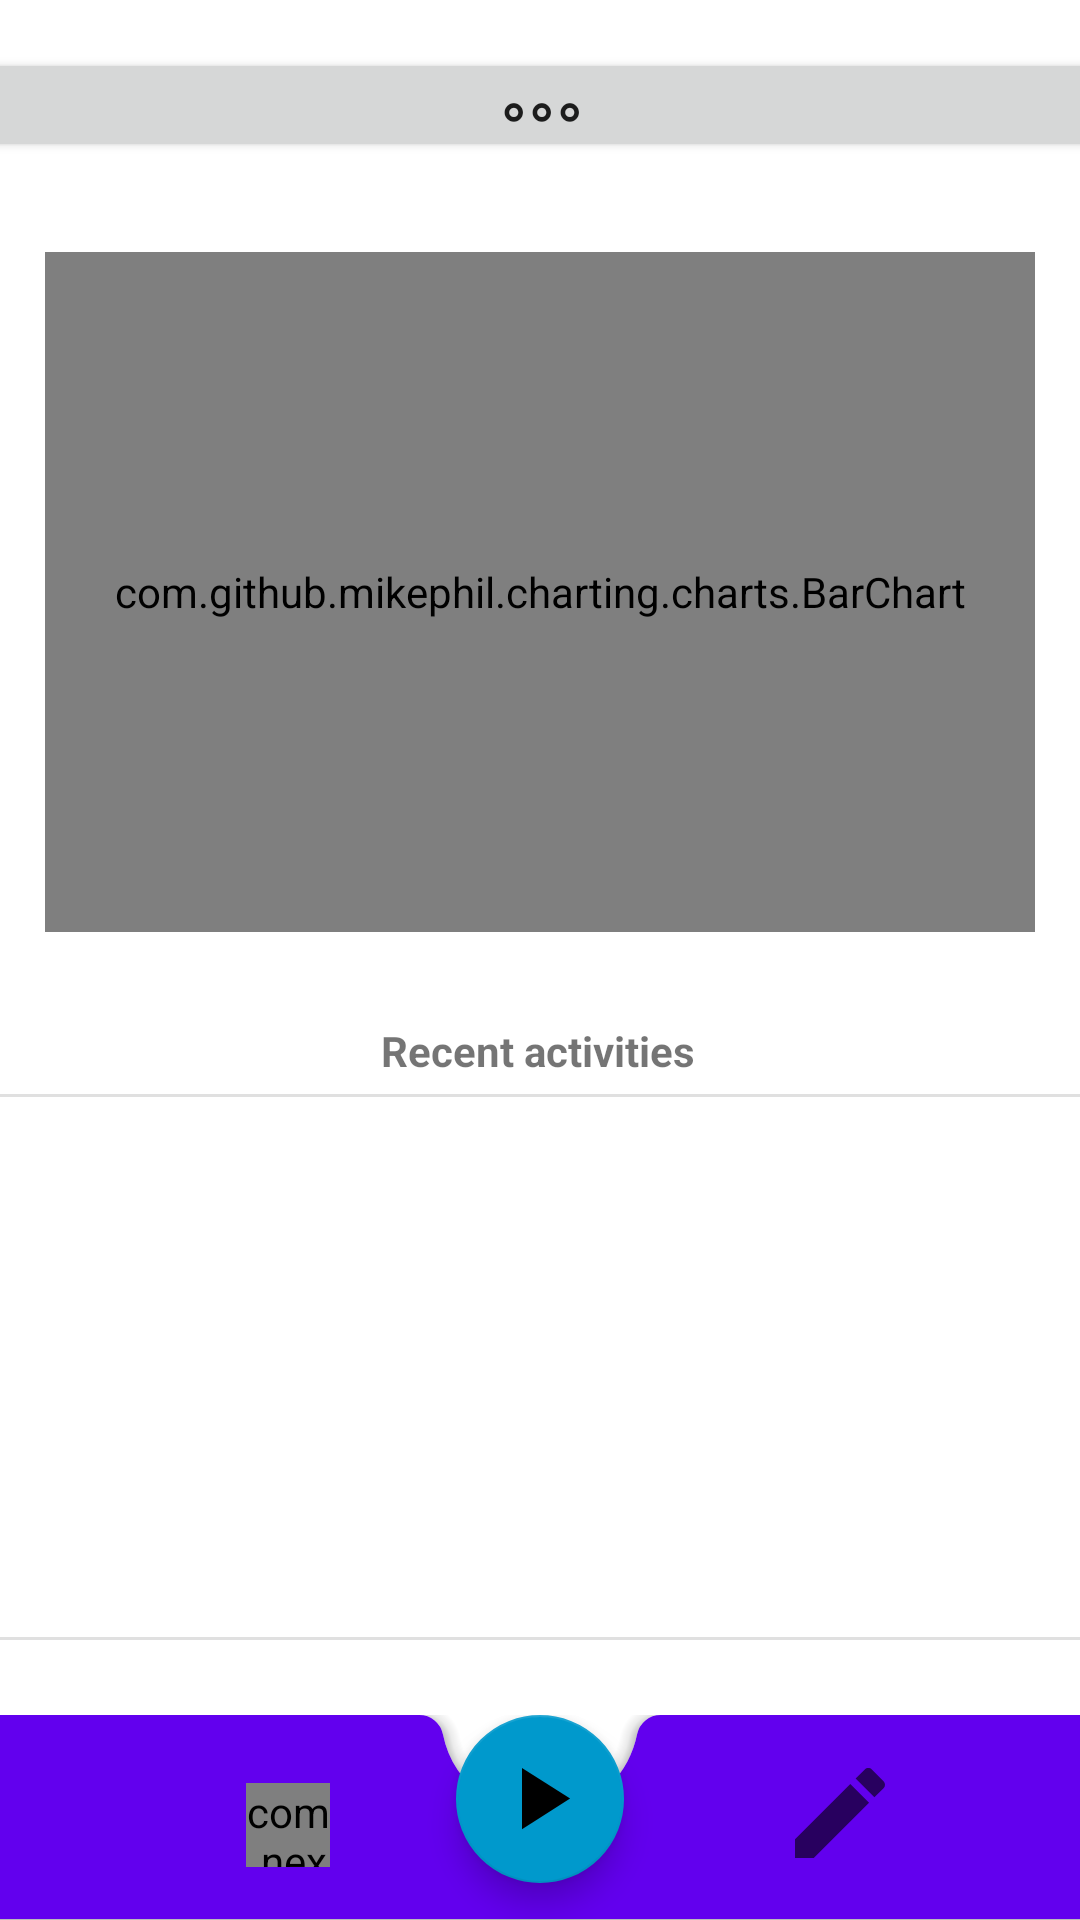

Point at icon controls on the screen. Image size 1080w x 1920h, points as [x,y].
Edit activity: [840,1813]
Record activity: [540,1799]
